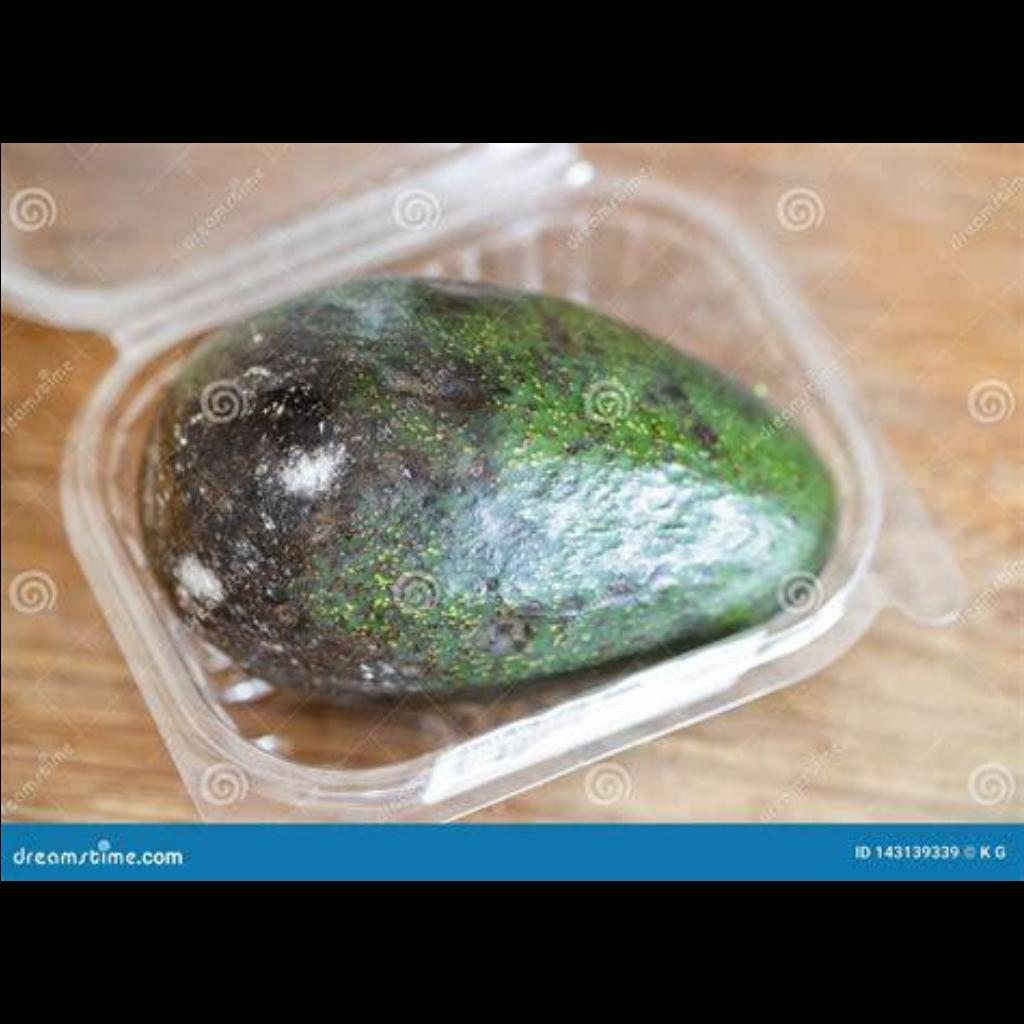Anthracnose: (174, 308, 672, 670)
